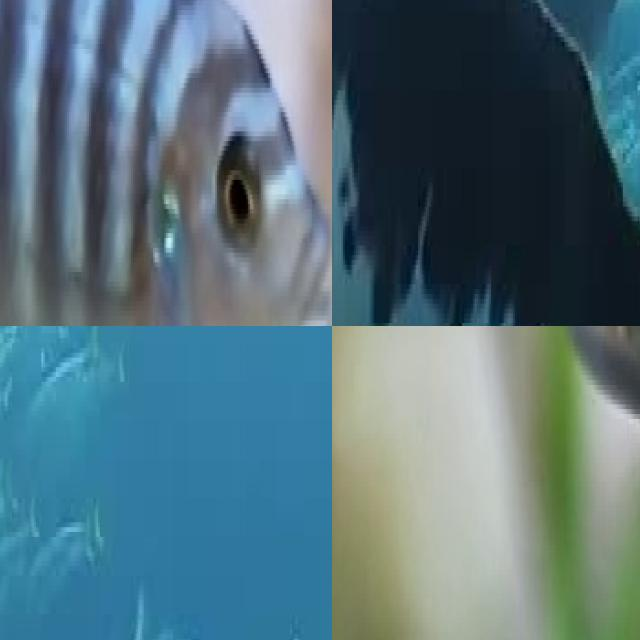fish: (0, 0, 332, 326), (477, 326, 640, 640)
